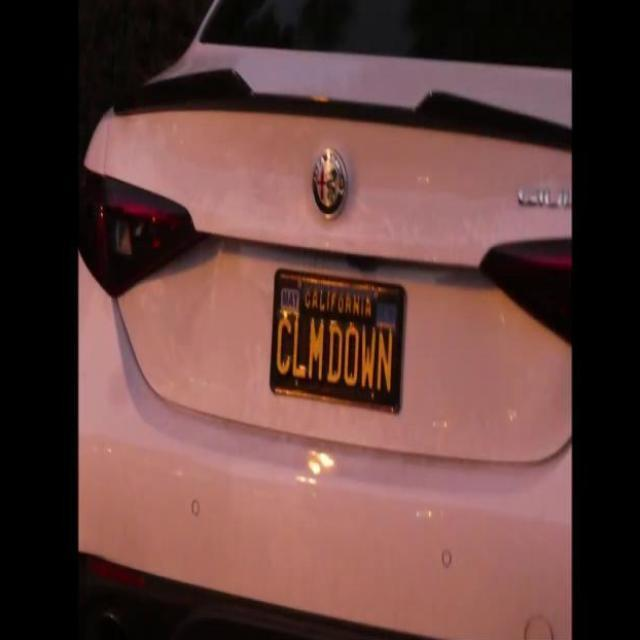License Plate: (268, 248, 417, 432)
